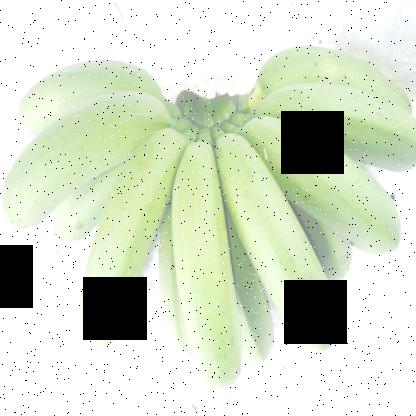freshunripe: (238, 120, 415, 267), (1, 97, 174, 239), (80, 143, 182, 352), (168, 148, 249, 393), (276, 85, 415, 182), (251, 40, 415, 116), (14, 54, 179, 116)
unripe: (221, 113, 352, 364)
